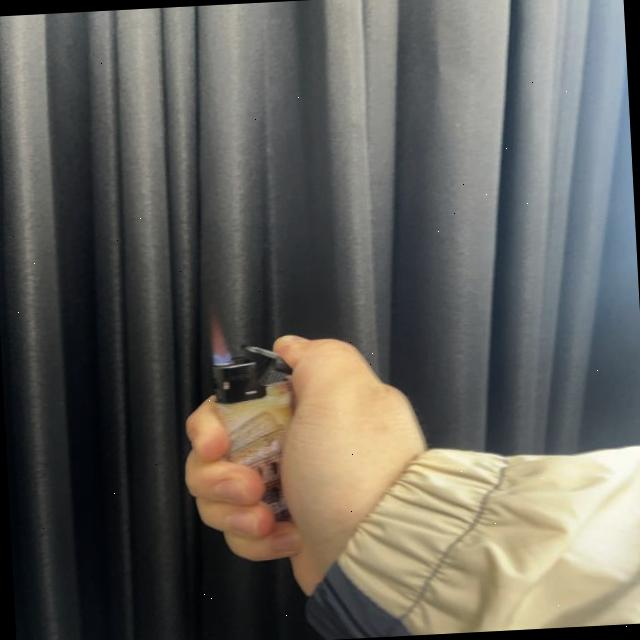fire: (206, 306, 233, 364)
